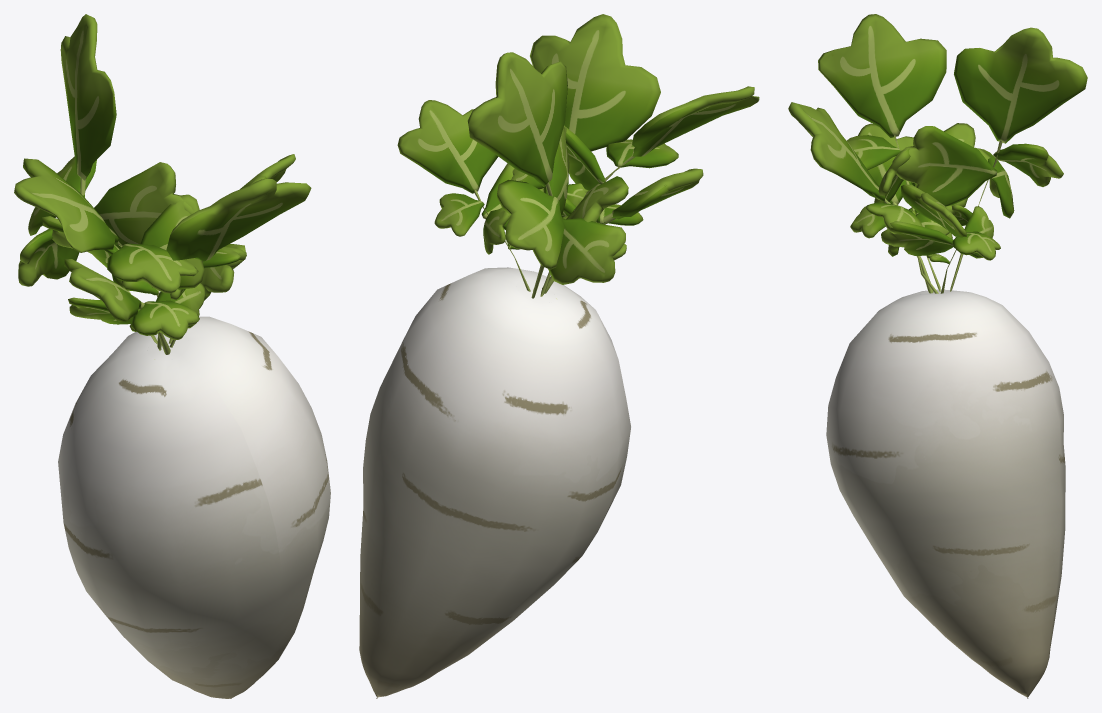
The model's file is Veg_turnip_L.fbx.
The picture shows the model from 3 angles, left to right: view 1: azimuth 30°, elevation 25°; view 2: azimuth 150°, elevation 25°; view 3: azimuth 270°, elevation 25°; orthographic projection. The views are drawn at different scales.
Visible parts, largest first — view 1: Cylinder.006; view 2: Cylinder.006; view 3: Cylinder.006.
Part boxes in pixels (x1,y1,x2,y2): Cylinder.006: (14, 14, 330, 698); Cylinder.006: (359, 14, 759, 698); Cylinder.006: (788, 14, 1087, 698).
Size of the model in its own units: 25.79 by 29.26 by 58.23.
